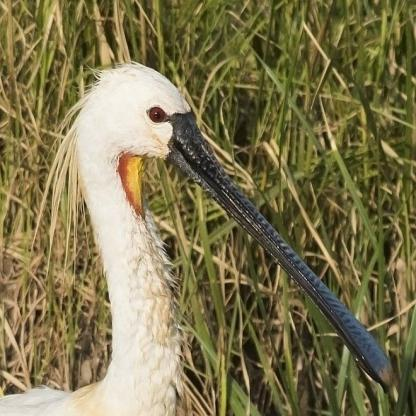Burung: (0, 61, 390, 415)
